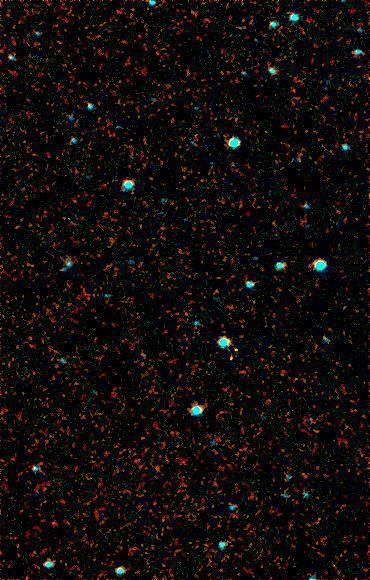star: (220, 340, 250, 370)
